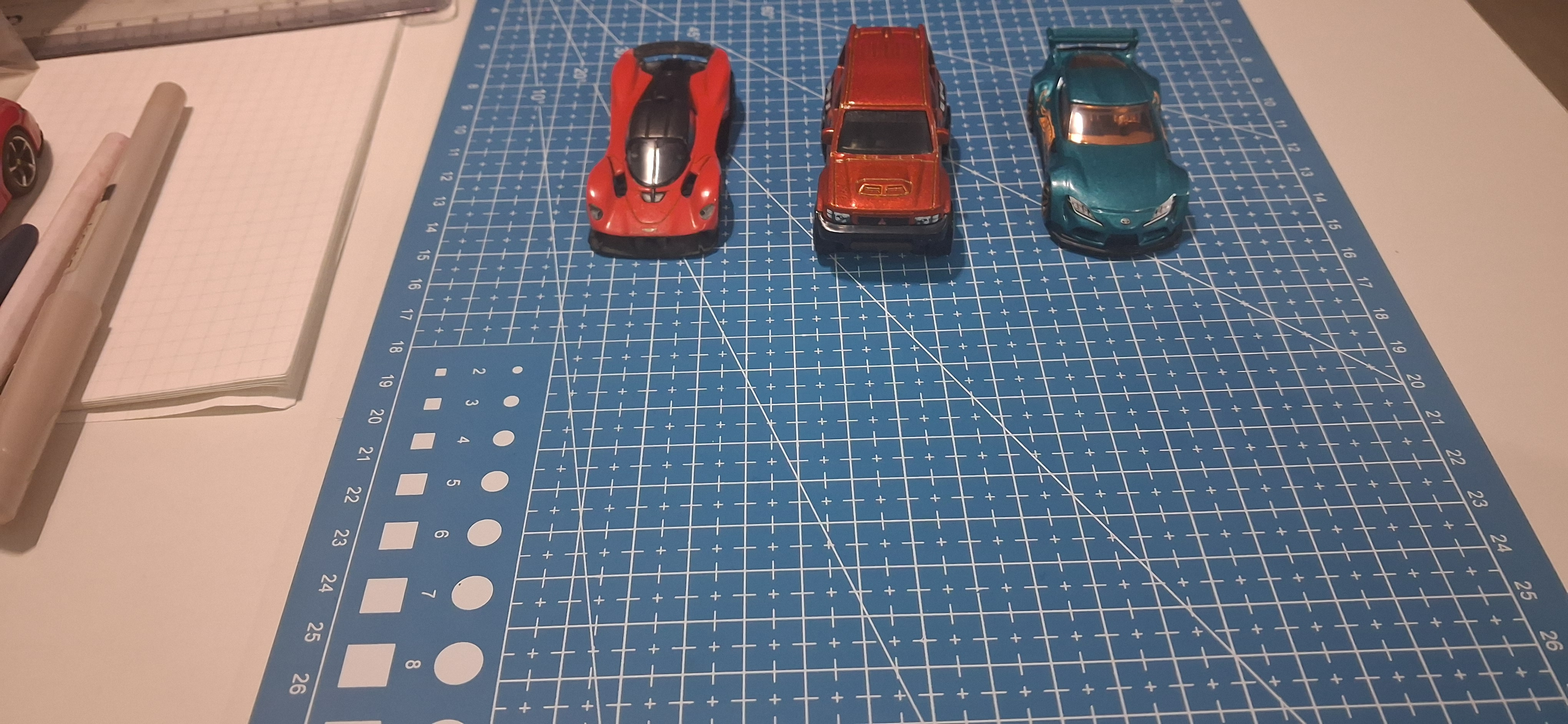Aston_Martin_Valkyrie: (574, 15, 751, 298)
Mitsubishi_Pajero_Evolution: (803, 13, 977, 287)
Toyota_GR_Supra: (1017, 11, 1225, 277)
